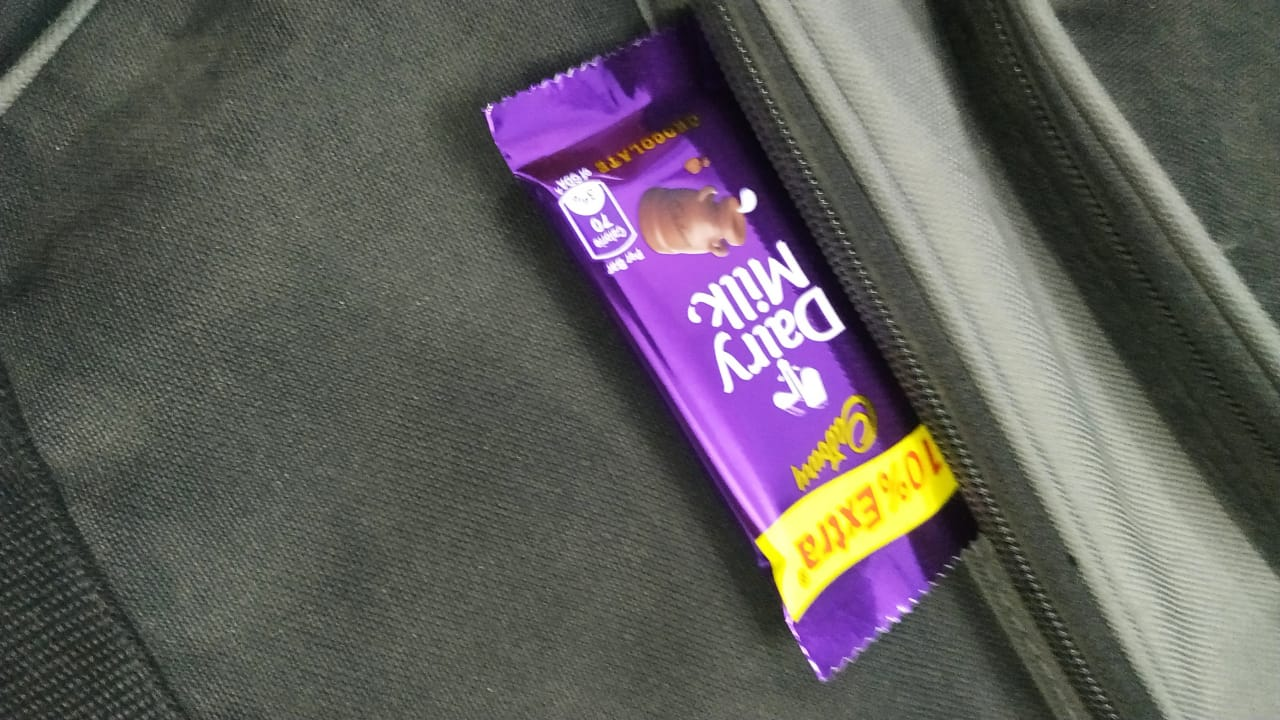dairy milk: (407, 30, 1004, 675)
